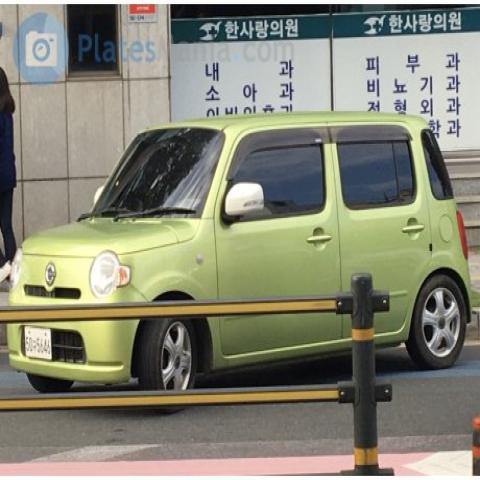LP: (16, 317, 62, 366)
